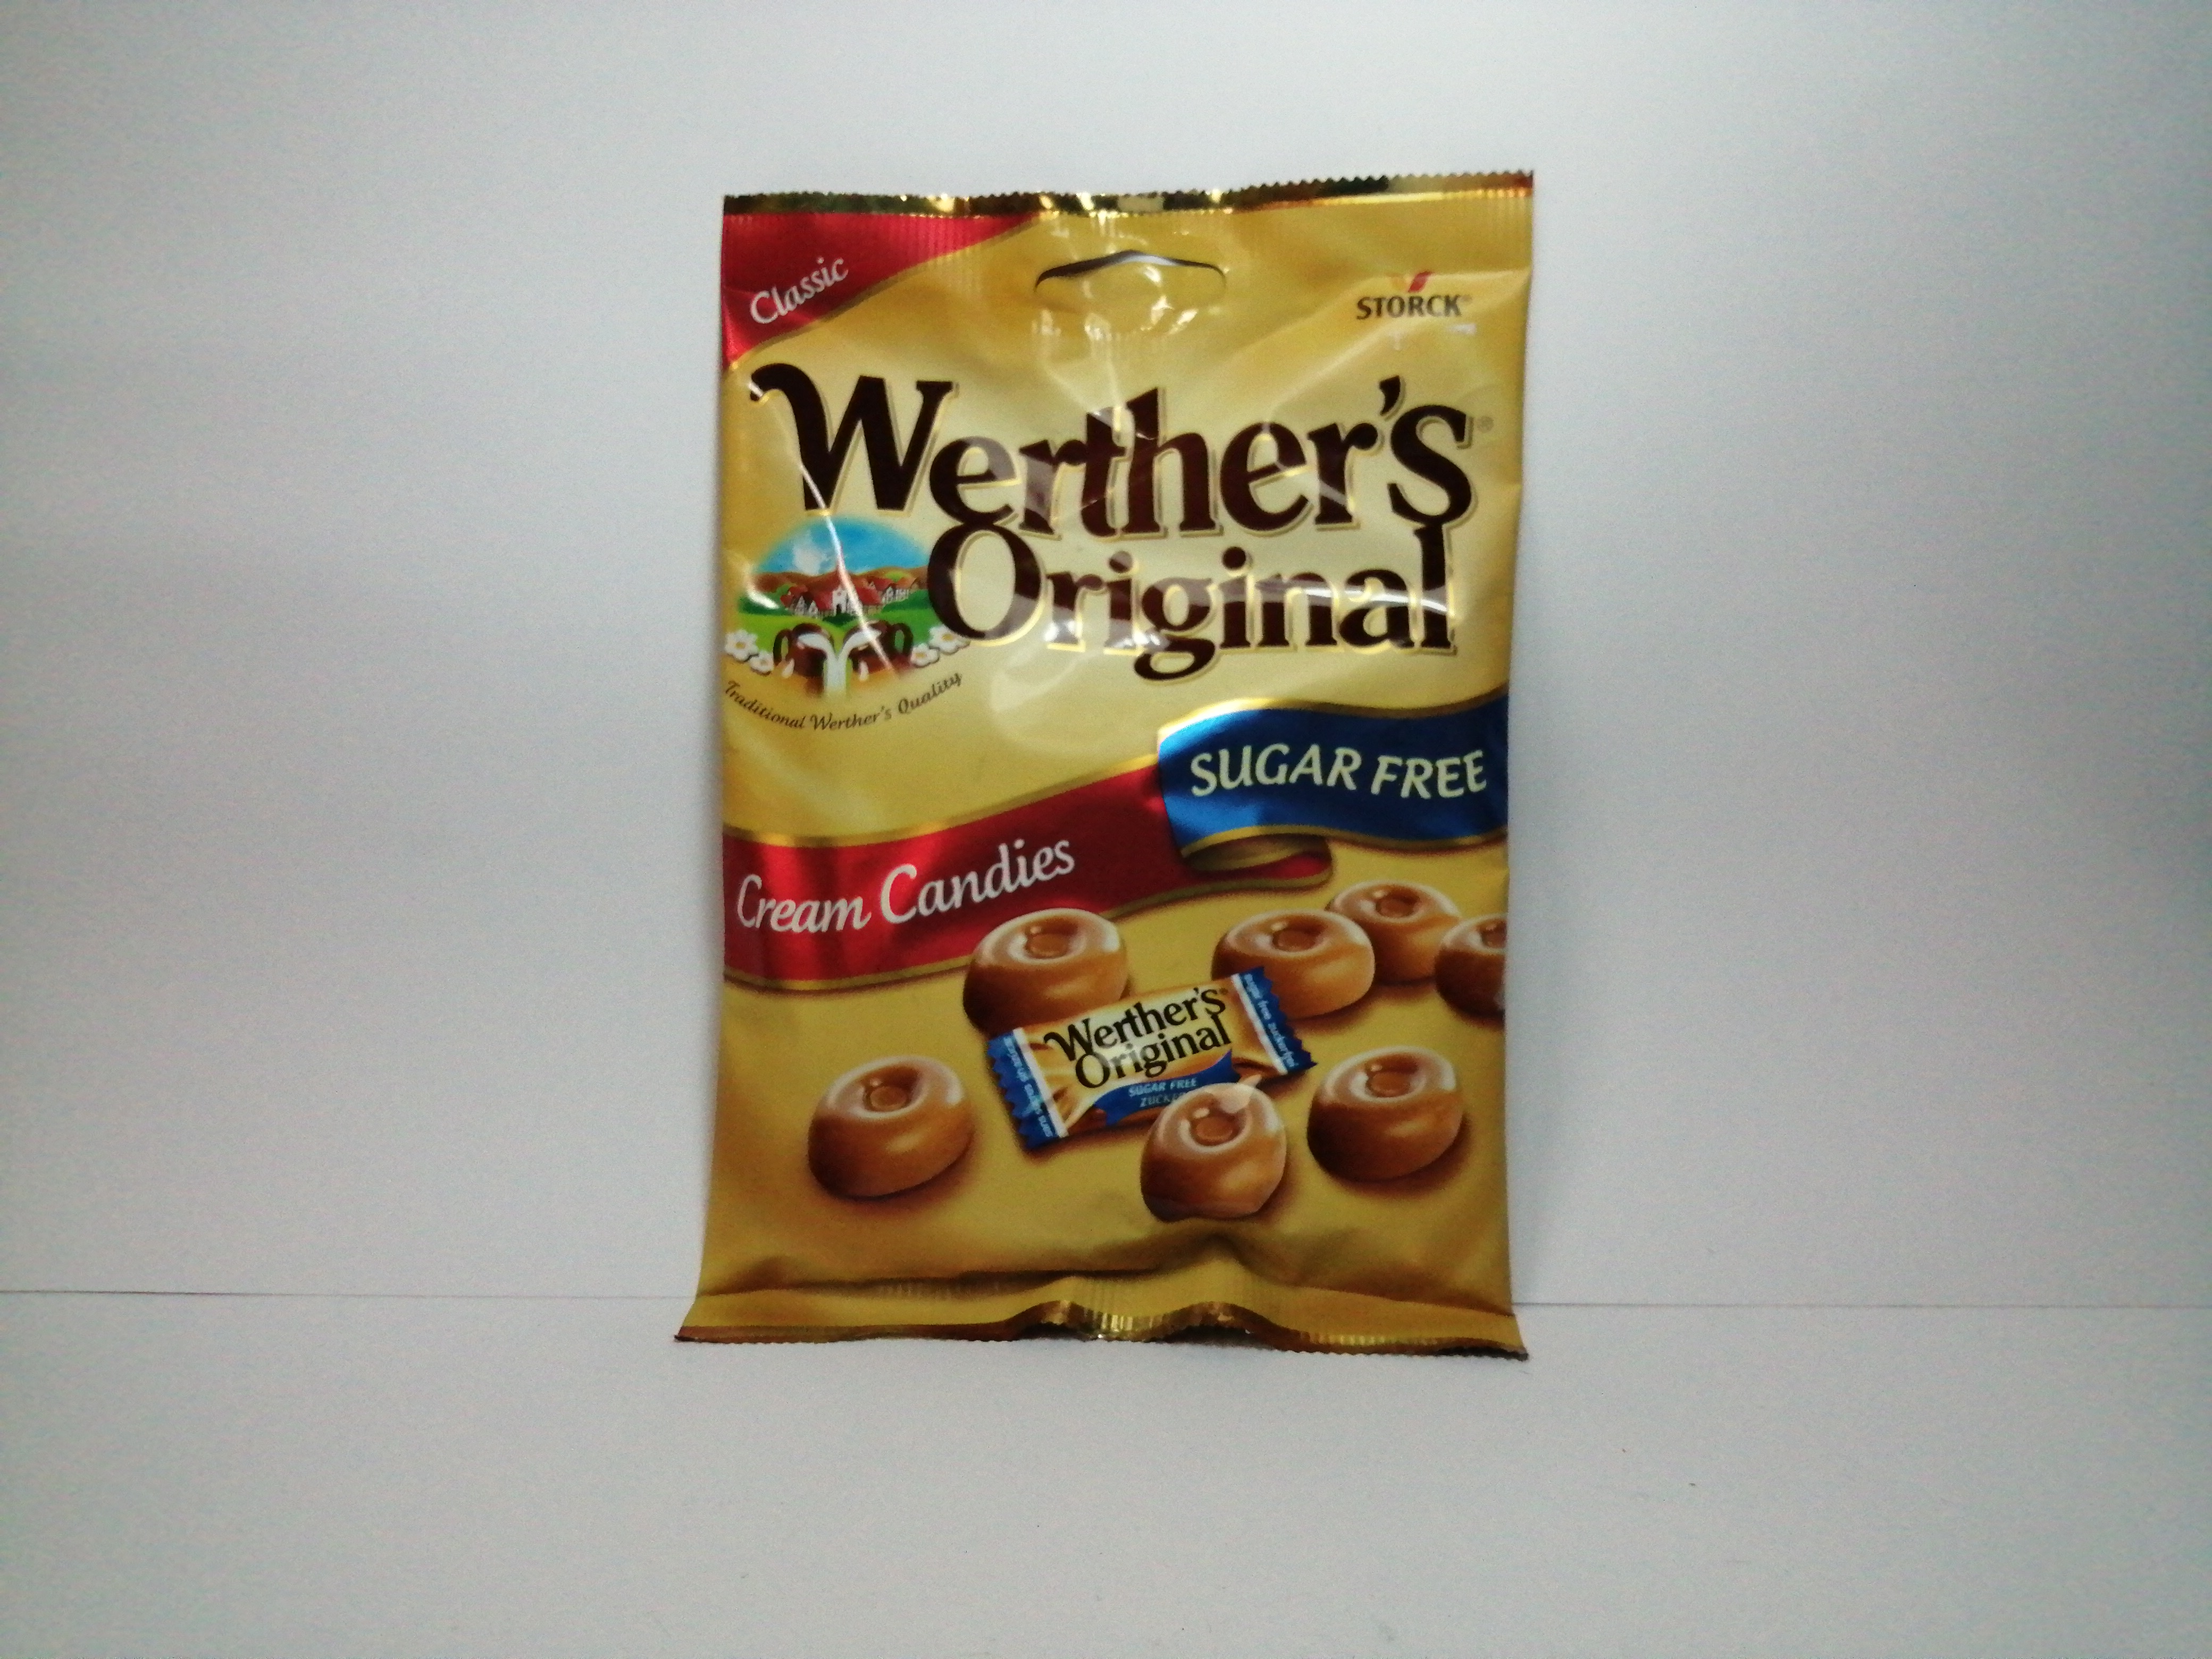dulces: (686, 181, 1526, 1359)
